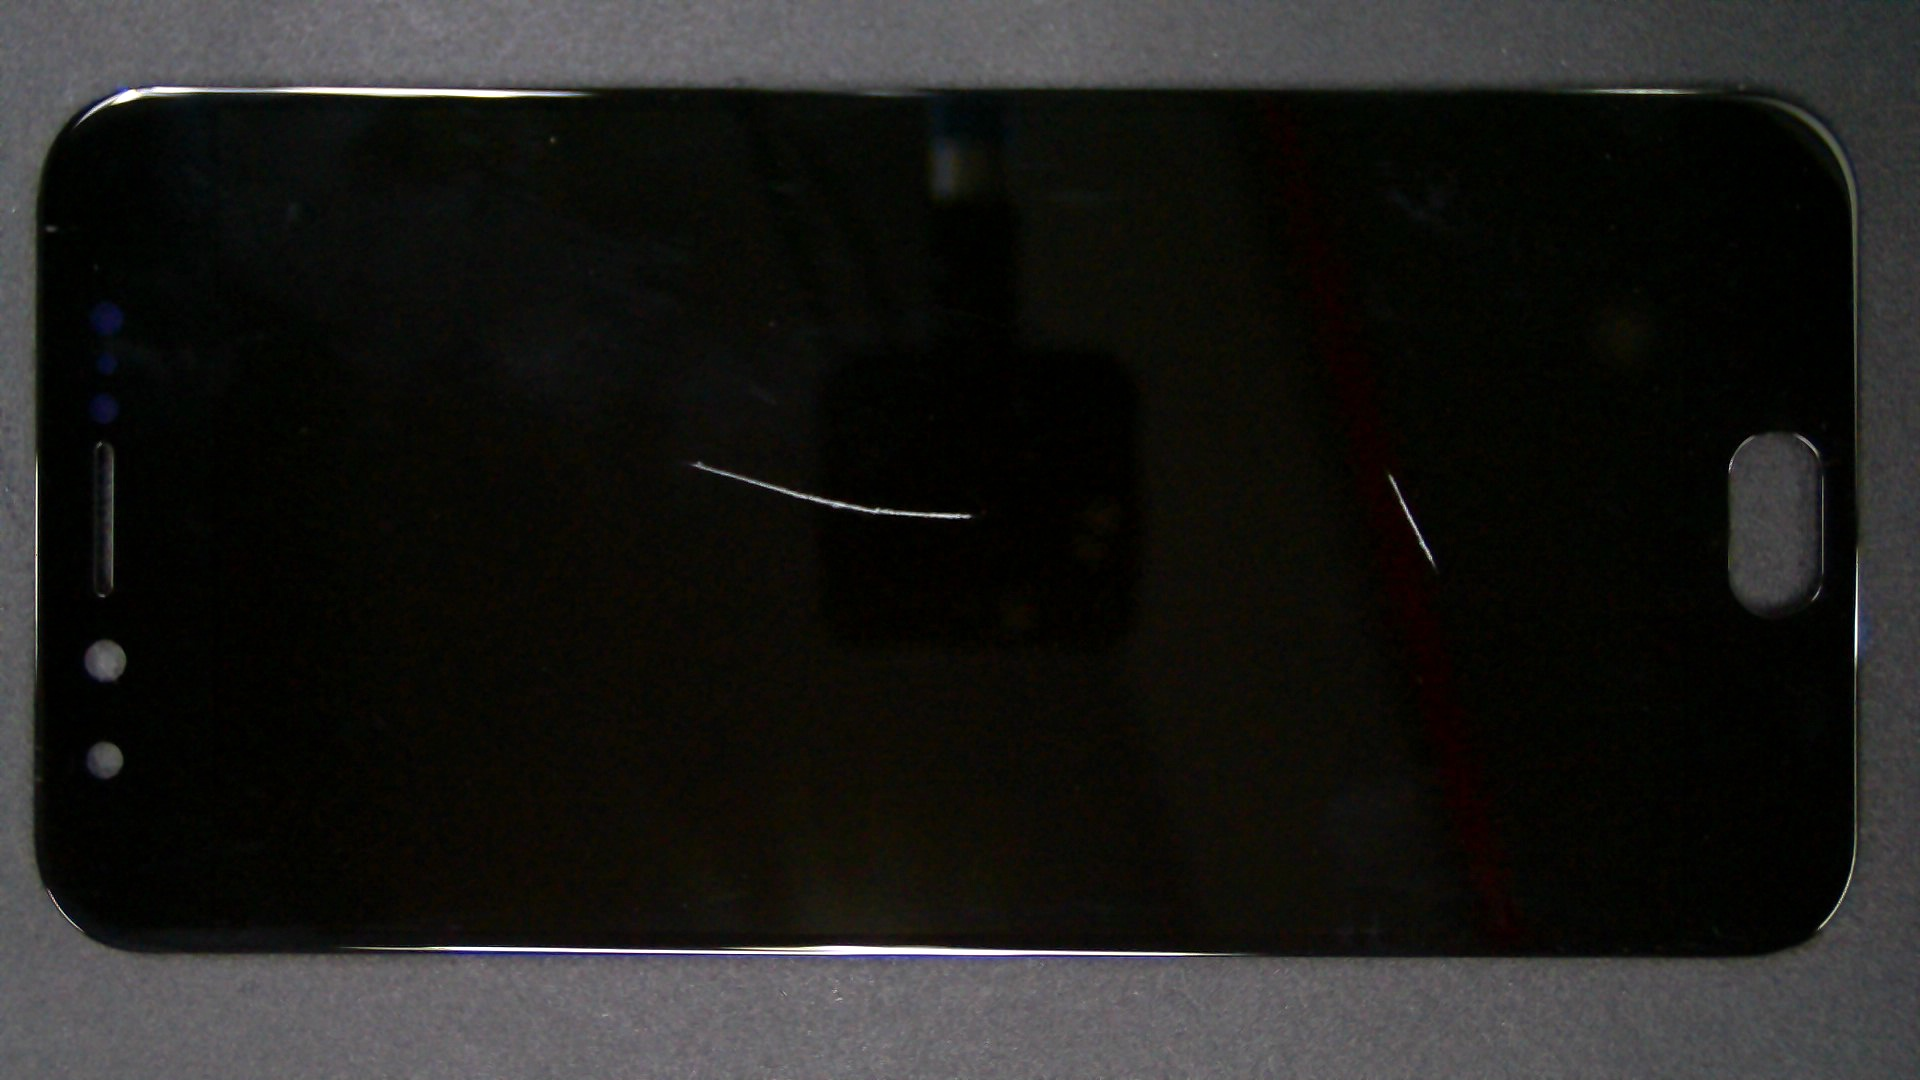oil: (695, 236, 1920, 709), (349, 229, 1047, 691)
